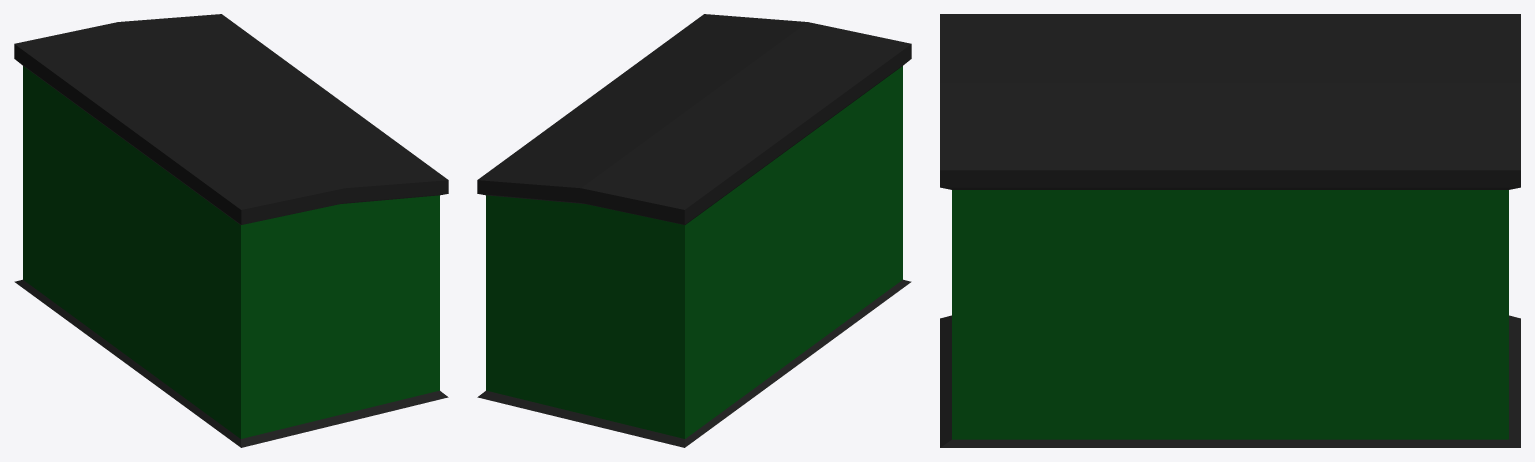
File: dumpster.glb
3 views of the same model, side by side, from view 1: azimuth 30°, elevation 25°; view 2: azimuth 150°, elevation 25°; view 3: azimuth 270°, elevation 25° (orthographic). The views are drawn at different scales.
Visible parts, largest first — view 1: Cube; view 2: Cube; view 3: Cube.
Part boxes in pixels (x1,y1,x2,y2): Cube: (14,14,448,447); Cube: (477,14,911,447); Cube: (940,14,1520,447).
Bounding box in the file's own units: 2 × 2.19 × 3.79.
